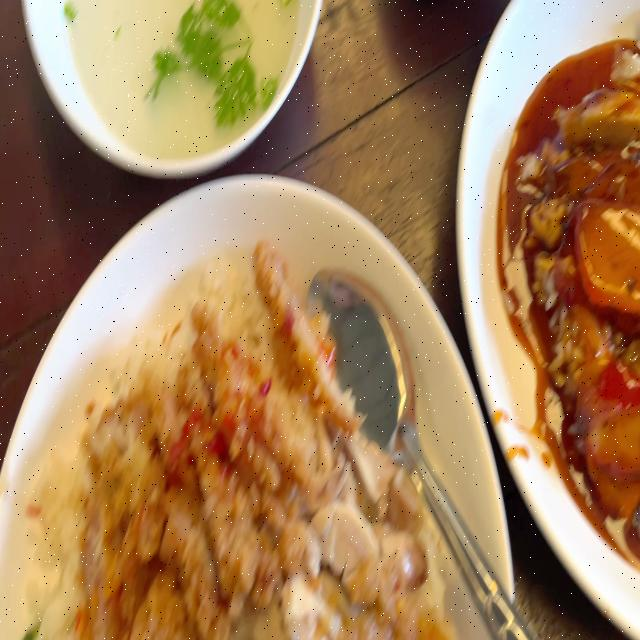boiled_chicken: (288, 438, 434, 640)
chicken_rice: (44, 238, 450, 640)
crispy_pork: (551, 45, 640, 142)
fried_chicken: (62, 238, 352, 640)
red_pork: (572, 355, 640, 515), (573, 198, 640, 323)
red_pork_and_crispy_pork: (522, 37, 640, 542)
